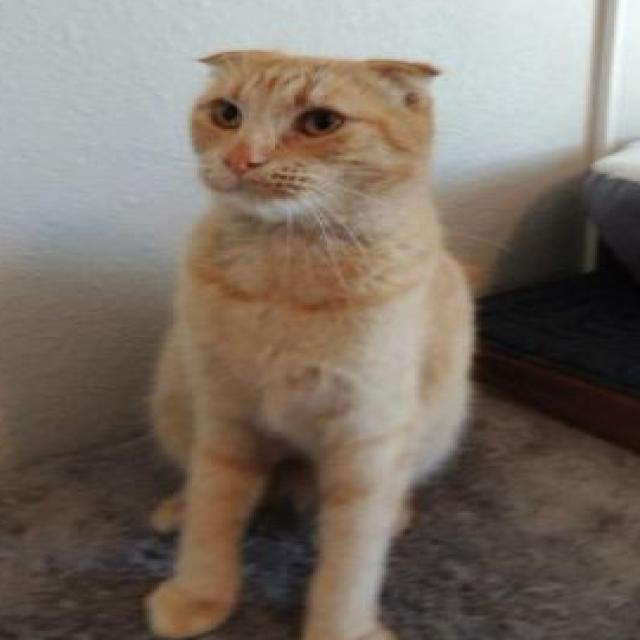Scottish Fold: (128, 39, 488, 640)
